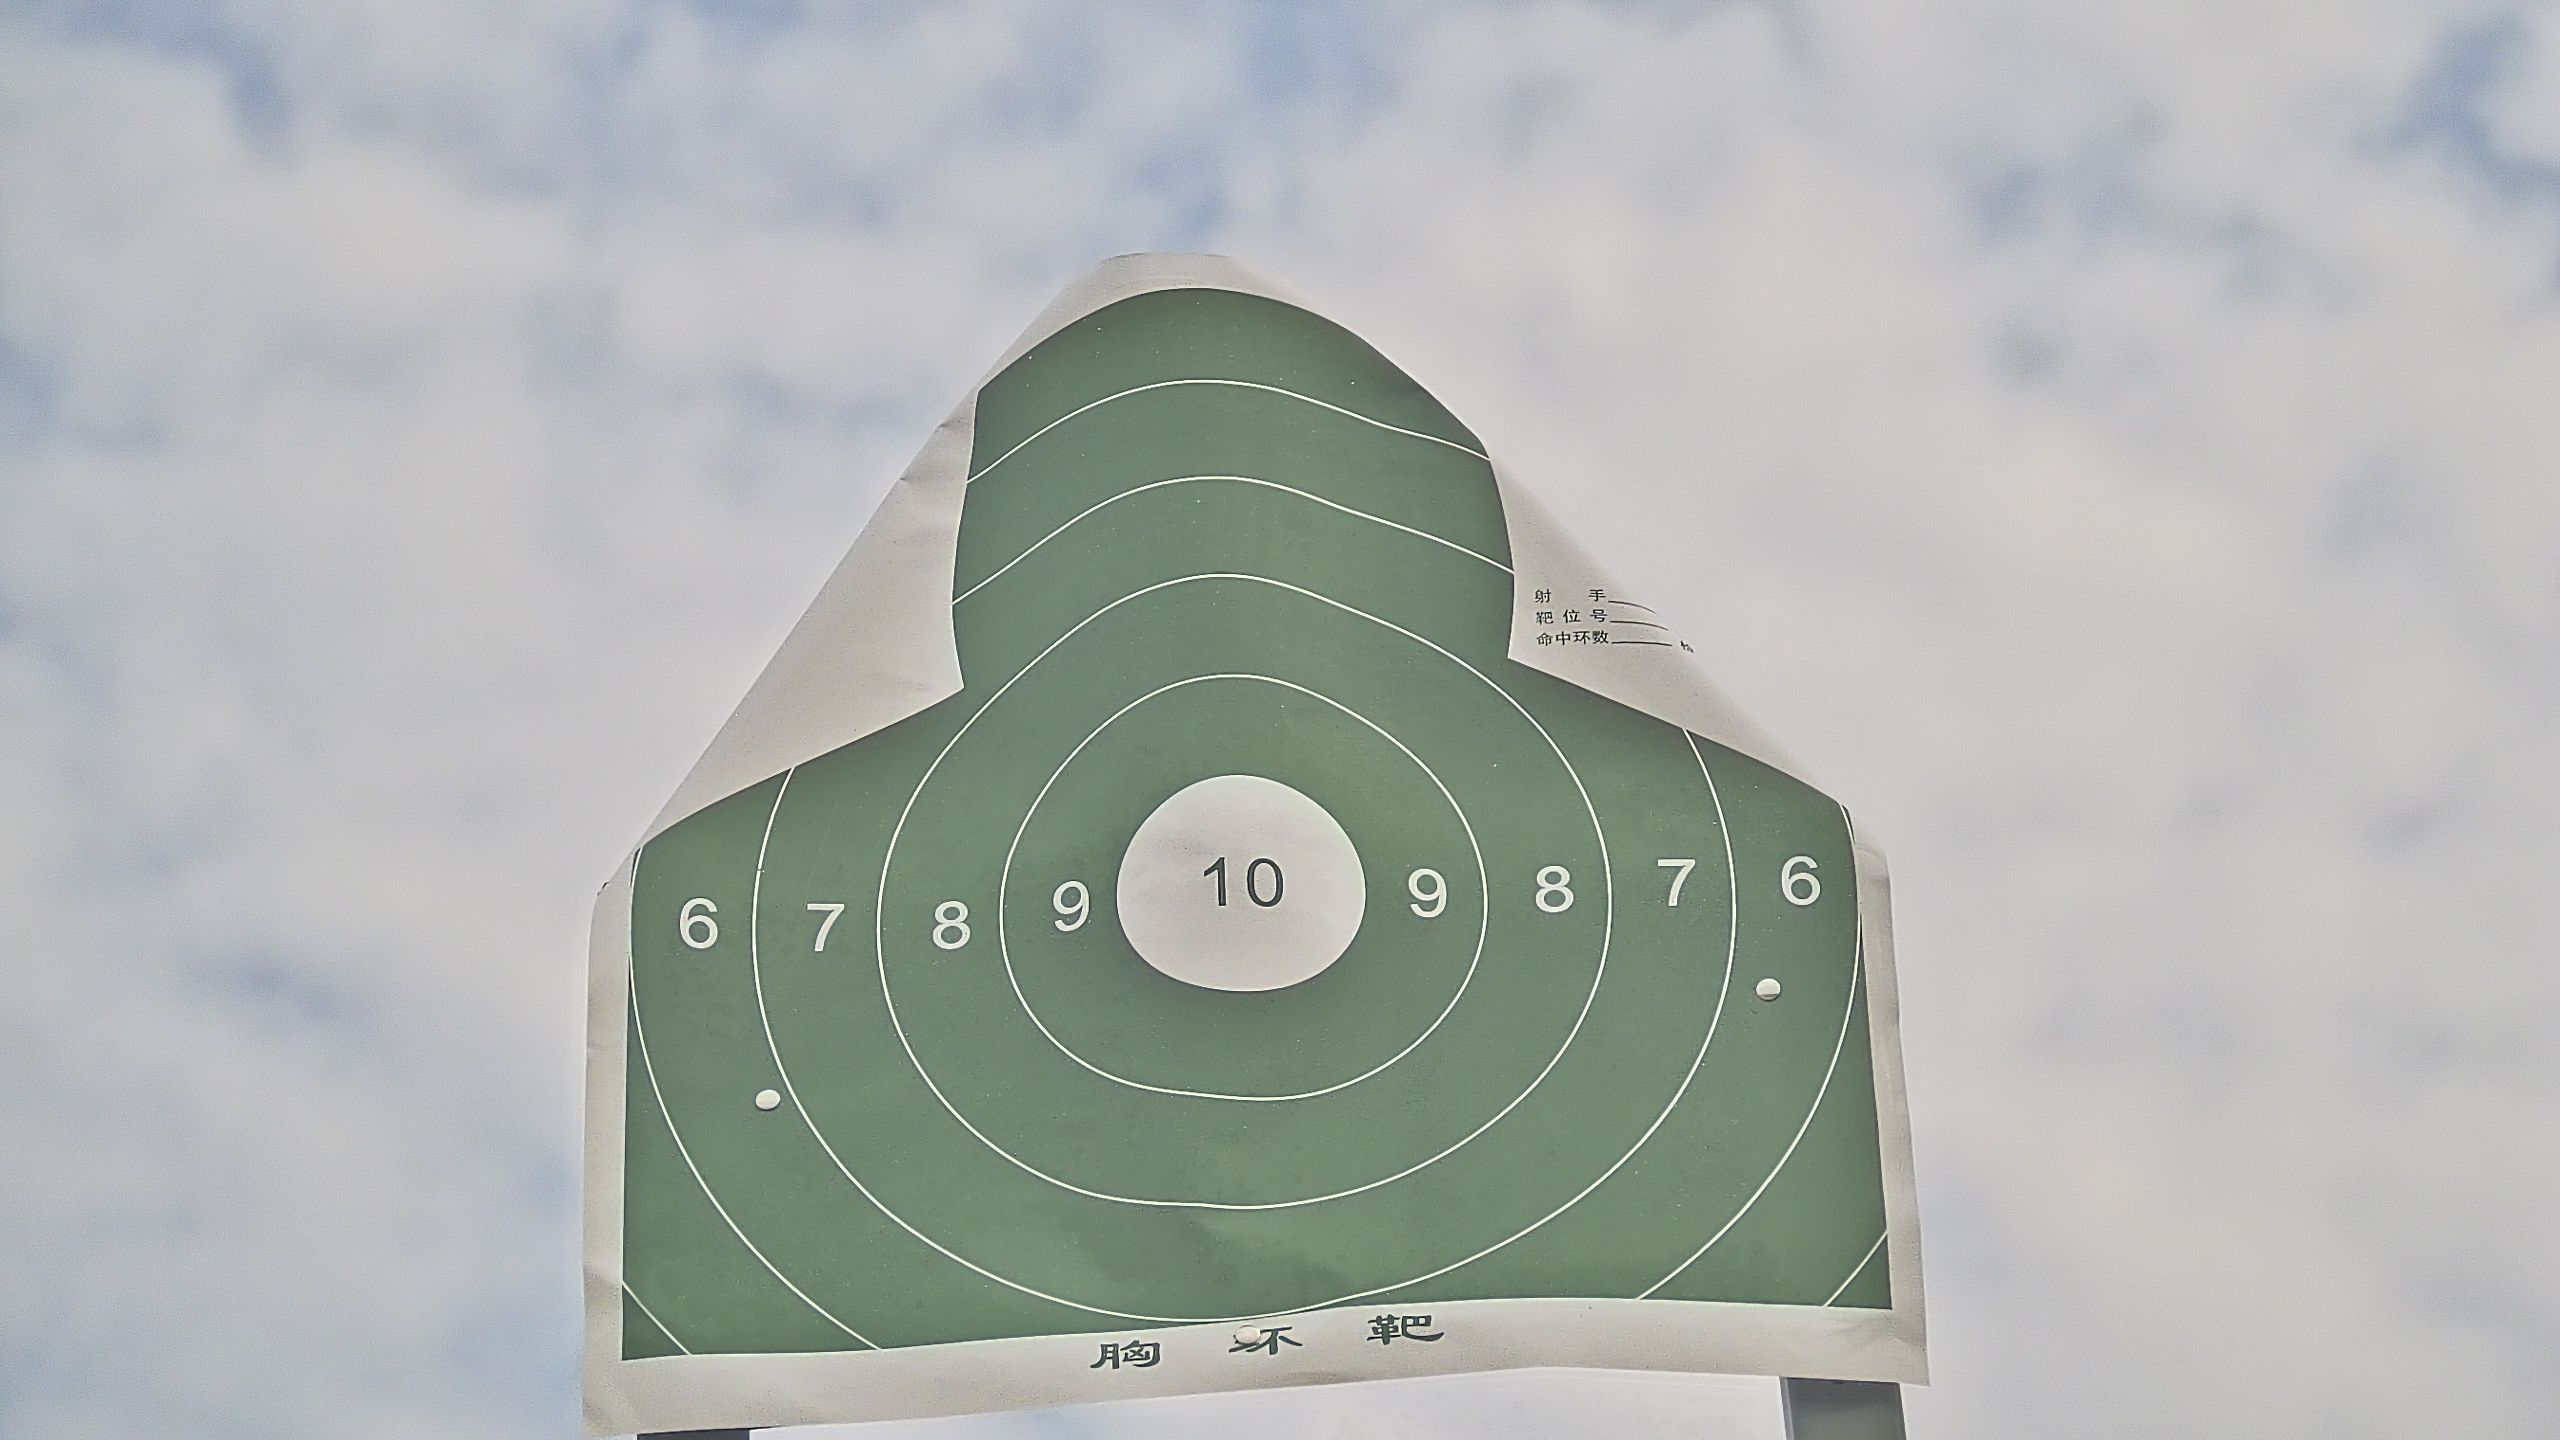kernel: (1234, 879, 1241, 884)
target: (617, 288, 1883, 1363)
ten: (1115, 774, 1366, 993)
